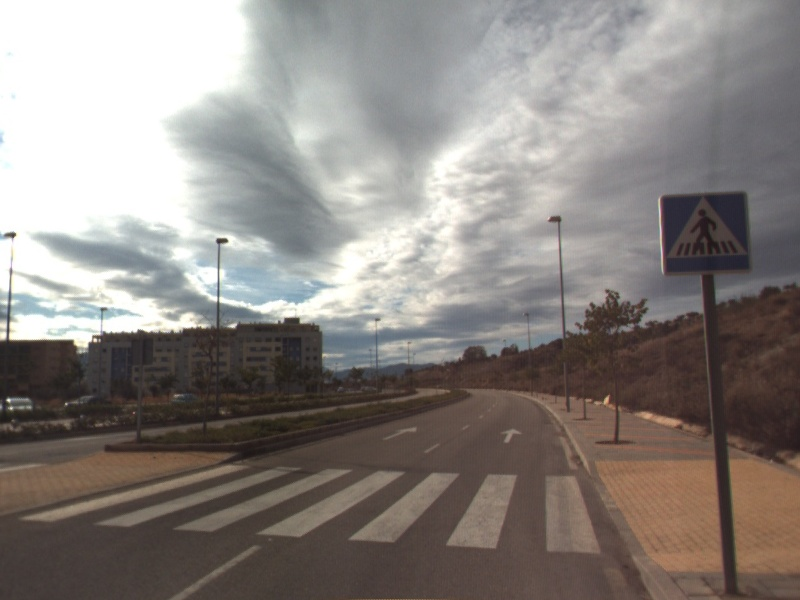STRAIGHT: (381, 424, 419, 442), (498, 426, 525, 445)
